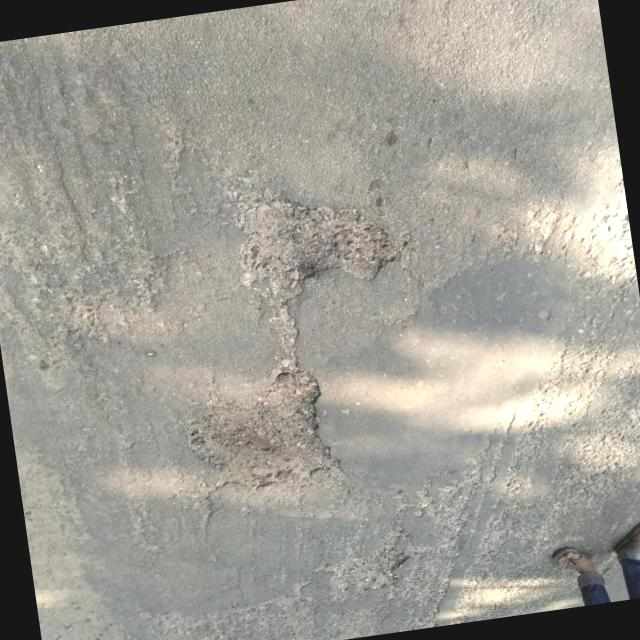pothole: (174, 360, 340, 506), (230, 170, 393, 312)
